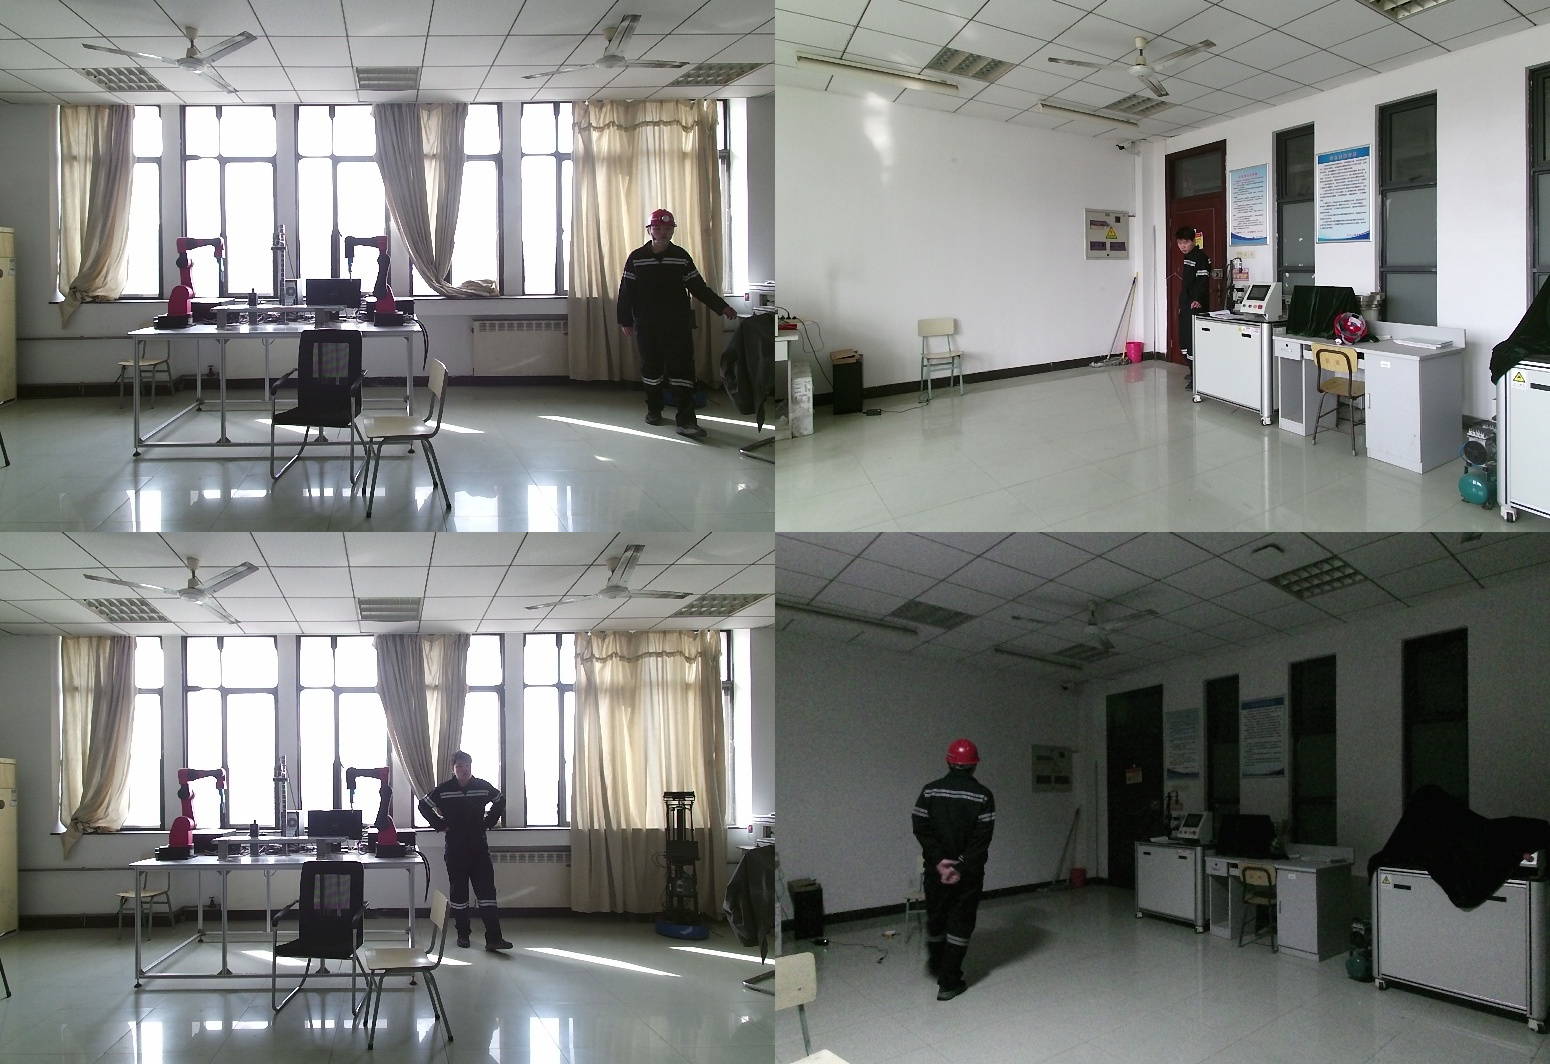person: (860, 740, 1049, 1000), (620, 209, 725, 433), (420, 751, 515, 957), (1176, 230, 1220, 318)
